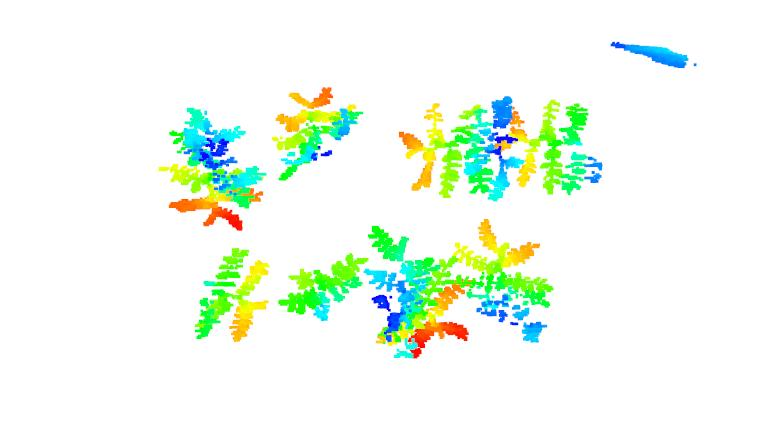chickpea: (362, 223, 471, 361), (157, 104, 266, 231), (397, 89, 515, 202), (452, 218, 555, 344), (265, 83, 363, 185), (509, 99, 600, 195), (191, 245, 271, 346), (278, 250, 370, 326)
